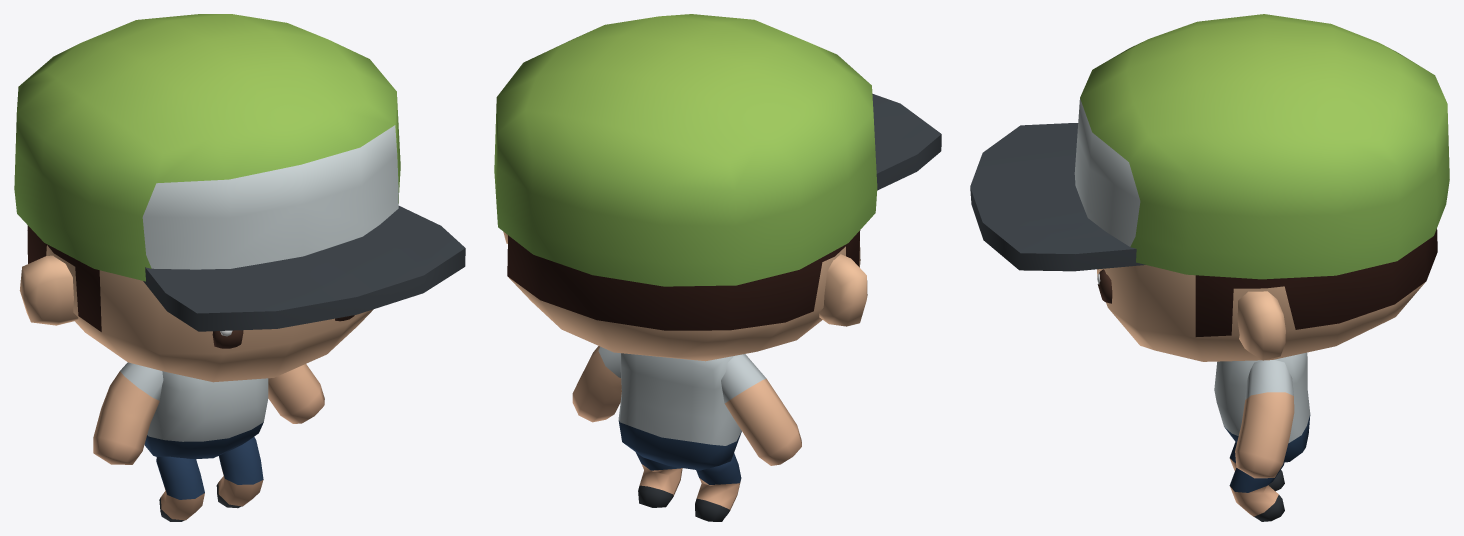
Rendered from jump_0007.obj.
3 renders of one model, left to right at view 1: azimuth 30°, elevation 25°; view 2: azimuth 150°, elevation 25°; view 3: azimuth 270°, elevation 25°, orthographic. The views are drawn at different scales.
Parts seen in each view (by area): view 1: Object_41, Object_42, Object_44, Object_36, Object_38; view 2: Object_41, Object_36, Object_44, Object_42; view 3: Object_41, Object_36, Object_42, Object_44.
Part boxes in pixels (x1=…): Object_41: x1=14, y1=14, x2=400, y2=281; Object_42: x1=142, y1=125, x2=465, y2=331; Object_44: x1=93, y1=362, x2=324, y2=521; Object_36: x1=19, y1=225, x2=373, y2=382; Object_38: x1=212, y1=315, x2=354, y2=348; Object_41: x1=494, y1=14, x2=877, y2=286; Object_36: x1=503, y1=230, x2=867, y2=361; Object_44: x1=572, y1=346, x2=801, y2=521; Object_42: x1=872, y1=93, x2=941, y2=190; Object_41: x1=1080, y1=14, x2=1449, y2=279; Object_36: x1=1097, y1=229, x2=1437, y2=361; Object_42: x1=970, y1=98, x2=1145, y2=271; Object_44: x1=1214, y1=352, x2=1310, y2=521.
Size of the model in its own units: 0.9691 by 1.19 by 1.13.
